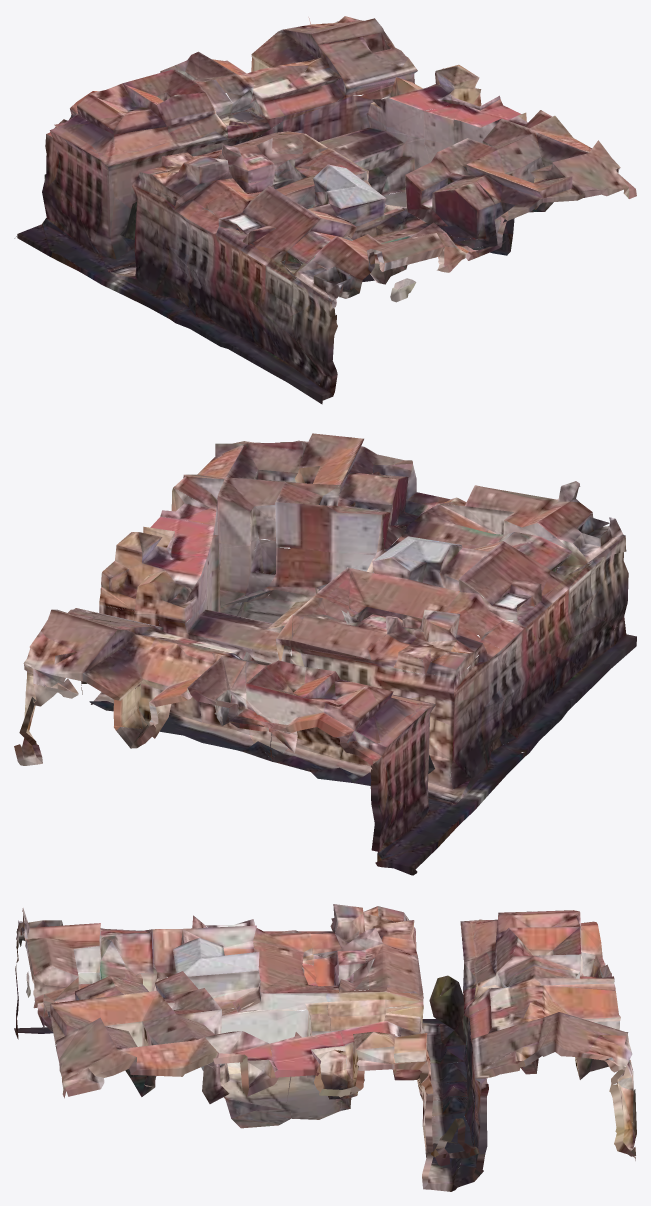
3 renders of one model, top to bottom at view 1: azimuth 30°, elevation 25°; view 2: azimuth 150°, elevation 25°; view 3: azimuth 270°, elevation 25°, orthographic. The views are drawn at different scales.
Visible parts, largest first — view 1: Mesh_0; view 2: Mesh_0; view 3: Mesh_0.
Part boxes in pixels (bbox=[...]): Mesh_0: bbox=[14, 16, 636, 404]; Mesh_0: bbox=[14, 433, 636, 875]; Mesh_0: bbox=[14, 904, 636, 1191].
Size of the model in its own units: 67.16 by 26.38 by 82.7.
Materials: 2 (2 with a texture image).
